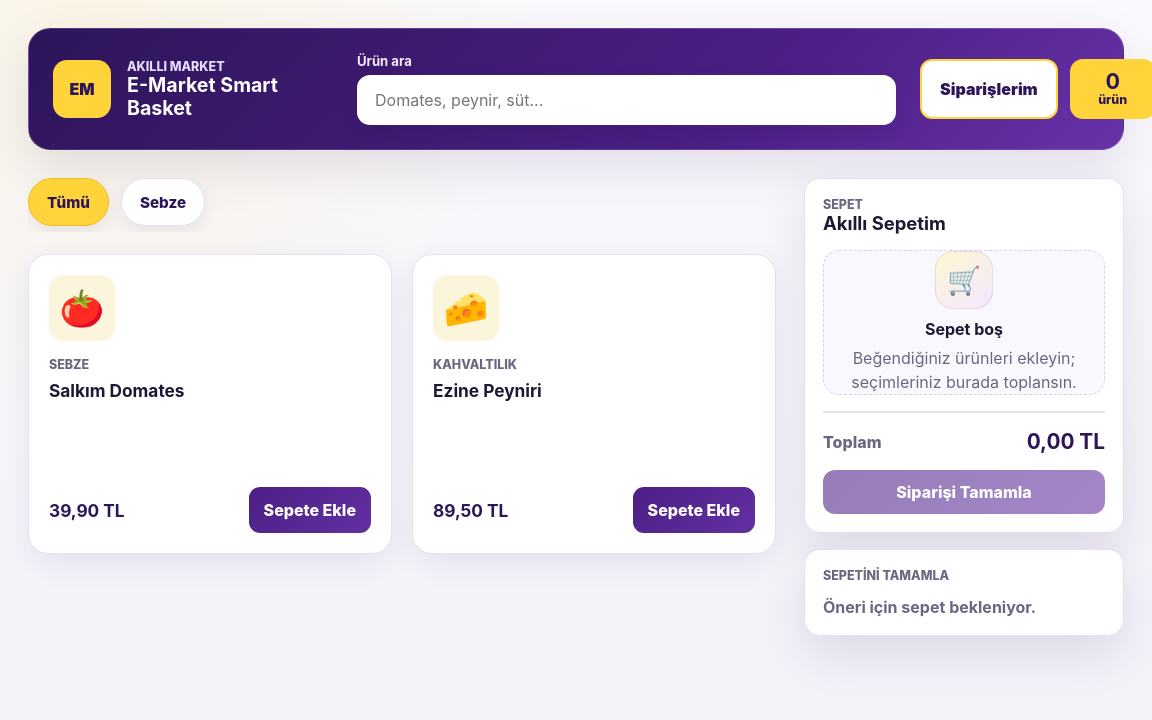
App checkout flow › opens the order history dialog immediately while history is loading
Click the button with class "orders-button" at x=989, y=89, box x1=920 y1=59 x2=1058 y2=119
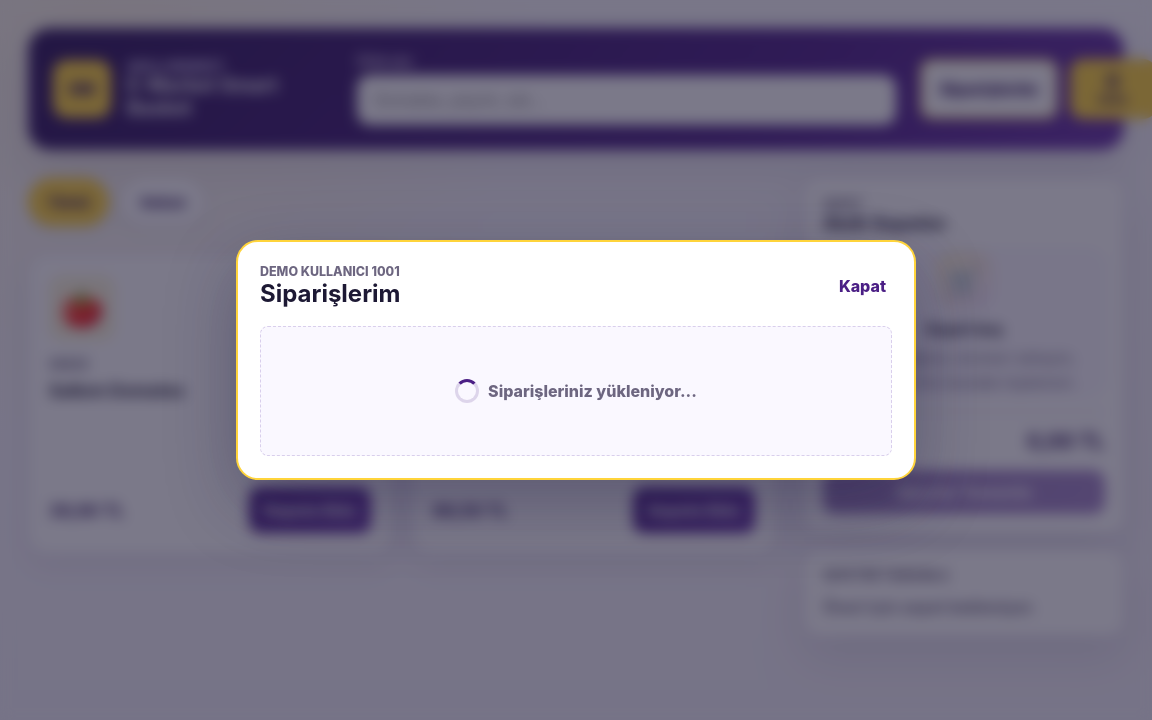
Result: the element with class "order-panel-backdrop" is shown
Result: the dialog is shown at x1=236 y1=240 x2=916 y2=480
Result: the text "Siparişleriniz yükleniyor..." is shown at x1=488 y1=381 x2=697 y2=401
